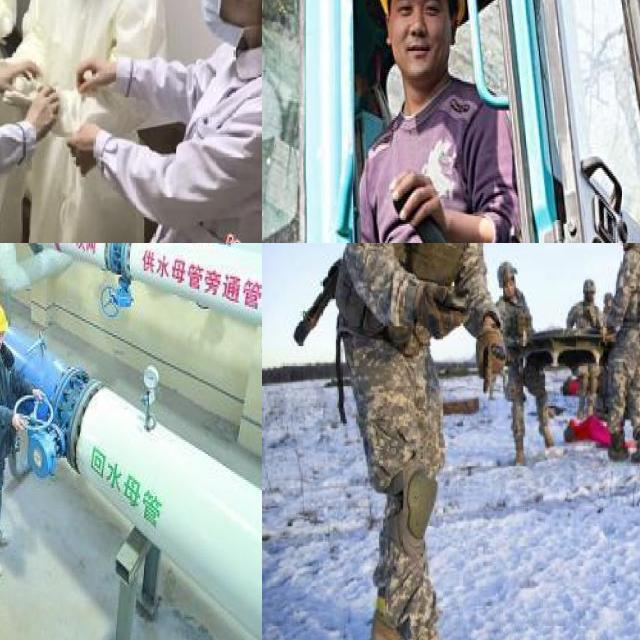No_Glasses: (391, 0, 448, 23)
face_mask: (165, 0, 262, 57)
face_nomask: (395, 0, 446, 65), (0, 327, 7, 352)
hand_glove: (419, 282, 471, 342), (476, 333, 505, 399)
hand_noglove: (384, 168, 444, 229), (26, 85, 60, 142), (72, 53, 116, 97), (69, 124, 103, 176), (0, 59, 41, 94), (8, 410, 33, 435), (30, 384, 46, 404), (518, 331, 528, 347), (601, 325, 608, 343)
head_helmet: (496, 259, 519, 286), (0, 301, 10, 336), (579, 282, 596, 300)
person: (317, 243, 526, 640), (345, 0, 515, 243), (133, 0, 262, 243), (485, 254, 568, 465), (573, 243, 640, 464), (0, 298, 32, 584)
shoes: (0, 523, 15, 549)
